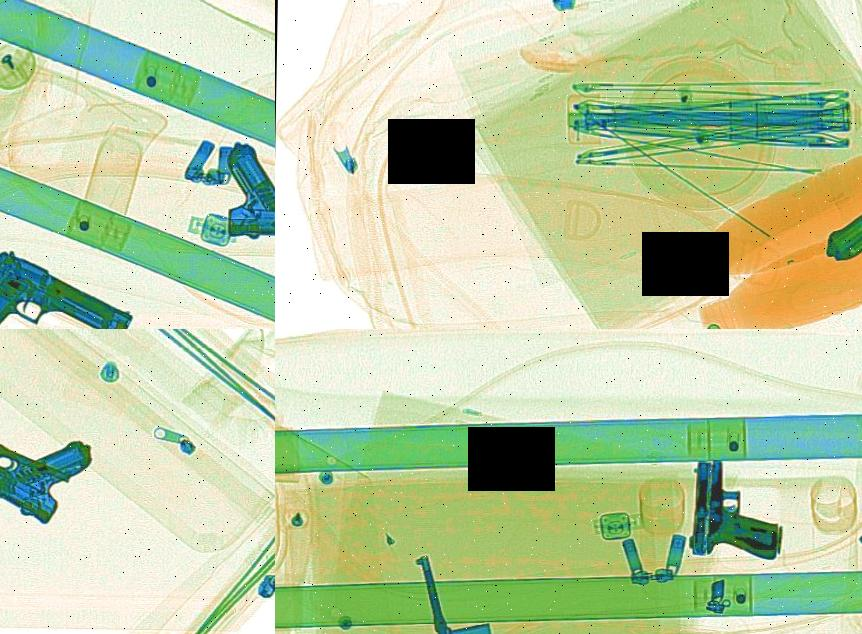Gun: (0, 381, 101, 527), (406, 545, 554, 634), (0, 241, 139, 329), (0, 397, 75, 558), (685, 456, 786, 559), (804, 106, 862, 262), (222, 140, 275, 238)
